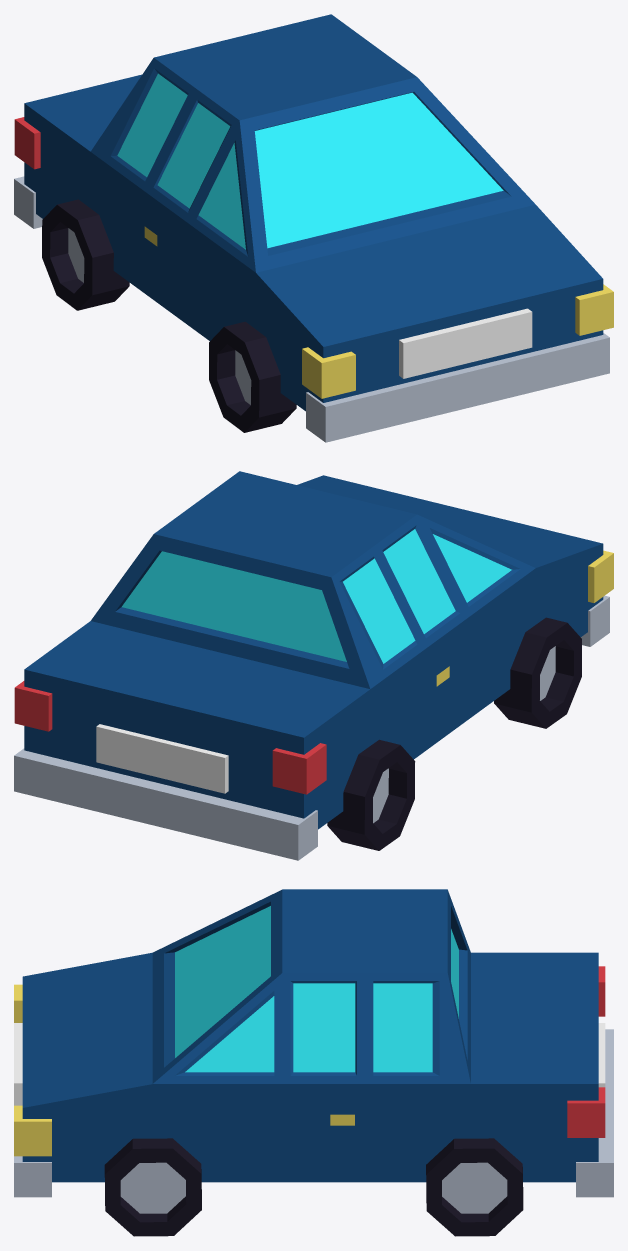
Rendered from car12.fbx.
3 views of the same model, one above another, from view 1: azimuth 30°, elevation 25°; view 2: azimuth 150°, elevation 25°; view 3: azimuth 270°, elevation 25° (orthographic). The views are drawn at different scales.
Visible parts, largest first — view 1: CarBlue; view 2: CarBlue; view 3: CarBlue.
Part boxes in pixels (bbox=[...]): CarBlue: bbox=[14, 14, 613, 442]; CarBlue: bbox=[14, 471, 613, 860]; CarBlue: bbox=[14, 889, 613, 1236].
Bounding box in the file's own units: 2.31 × 1.63 × 3.86.
